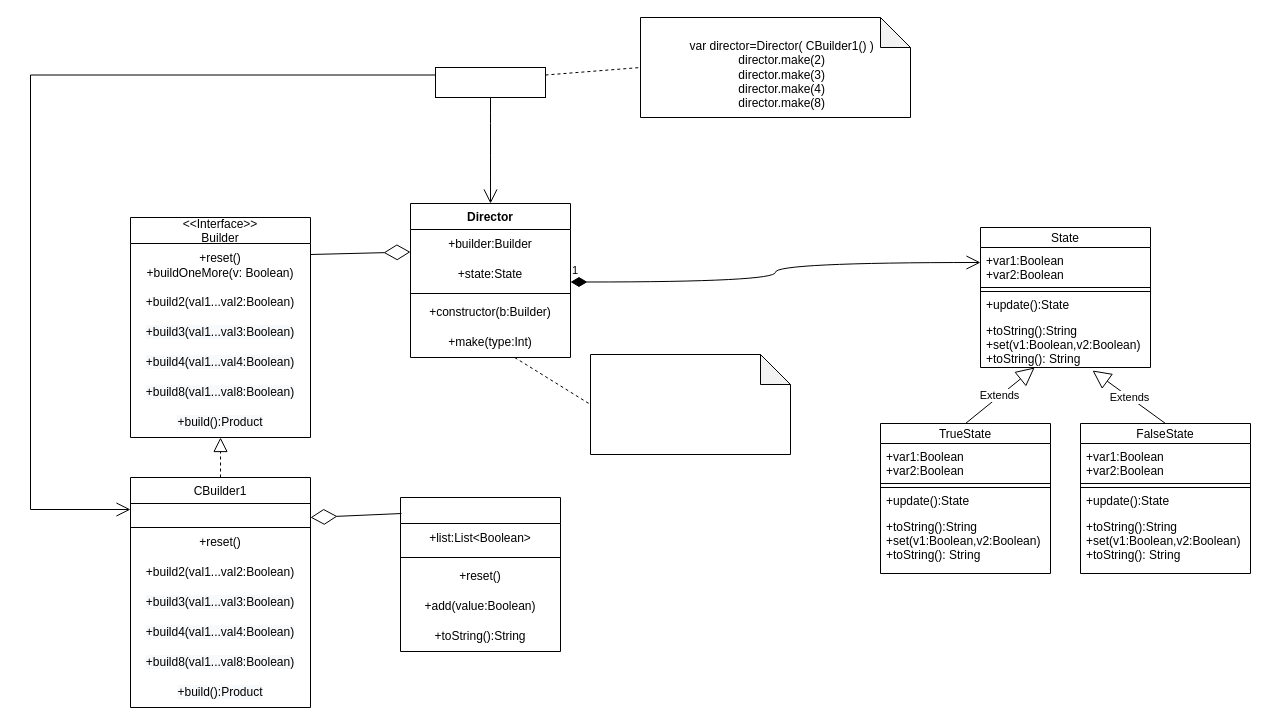
This 1268x725 diagram has some shape labels left out. Here are the shapes that lost their labels. From the top down, the box of each, then its label:
(434, 66, 546, 98): Client
(590, 354, 790, 454): list=readList(type elements) switch(type){ case 2: case 3: case 4 cast 8:}
(130, 502, 310, 528): +product:Product
(400, 496, 560, 652): Product
